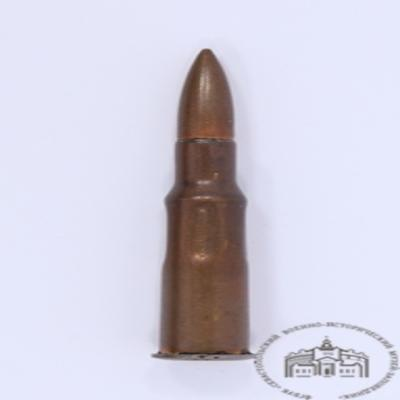weapon: (153, 49, 250, 361)
